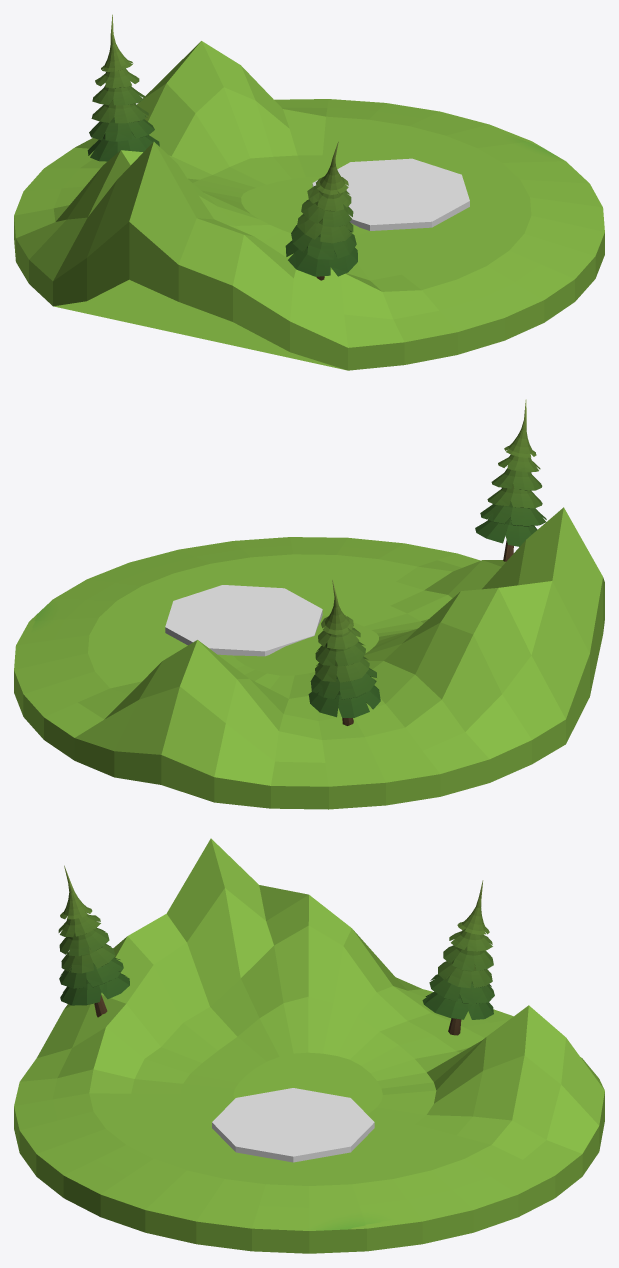
Rendered from LaunchPad.glb.
3 renders of one model, top to bottom at view 1: azimuth 30°, elevation 25°; view 2: azimuth 150°, elevation 25°; view 3: azimuth 270°, elevation 25°, orthographic.
Visible parts, largest first — view 1: Land, Pad, Tree_02_LOD0.001, Tree_02_LOD0; view 2: Land, Pad, Tree_02_LOD0, Tree_02_LOD0.001; view 3: Land, Pad, Tree_02_LOD0, Tree_02_LOD0.001.
Boxes of the visible parts, left/top/right/bottom form: Land: left=14, top=41, right=604, bottom=370; Pad: left=312, top=158, right=469, bottom=230; Tree_02_LOD0.001: left=285, top=141, right=357, bottom=280; Tree_02_LOD0: left=87, top=14, right=159, bottom=161; Land: left=14, top=507, right=604, bottom=809; Pad: left=165, top=585, right=322, bottom=656; Tree_02_LOD0: left=308, top=580, right=380, bottom=725; Tree_02_LOD0.001: left=475, top=399, right=546, bottom=561; Land: left=14, top=838, right=604, bottom=1253; Pad: left=212, top=1088, right=374, bottom=1162; Tree_02_LOD0: left=422, top=880, right=494, bottom=1035; Tree_02_LOD0.001: left=58, top=865, right=129, bottom=1017.
Size of the model in its own units: 5.08 by 2.06 by 5.08.
3 materials, 3 textured.
